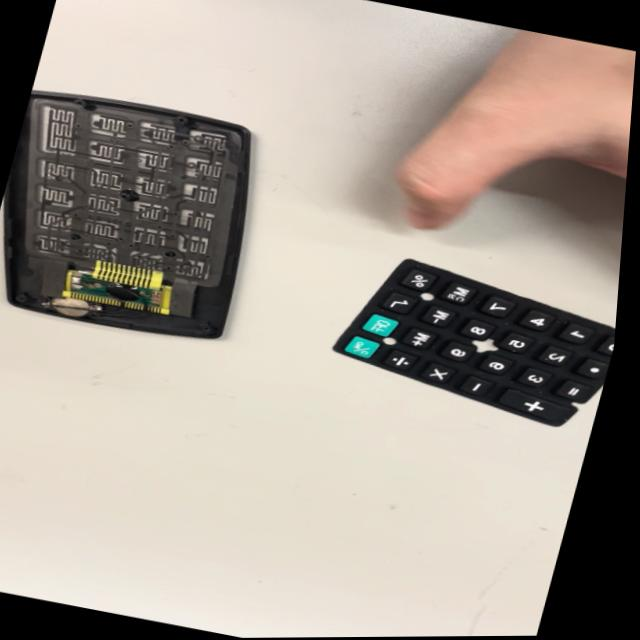front_panel: (0, 78, 294, 351)
number_pad: (289, 238, 622, 439)
